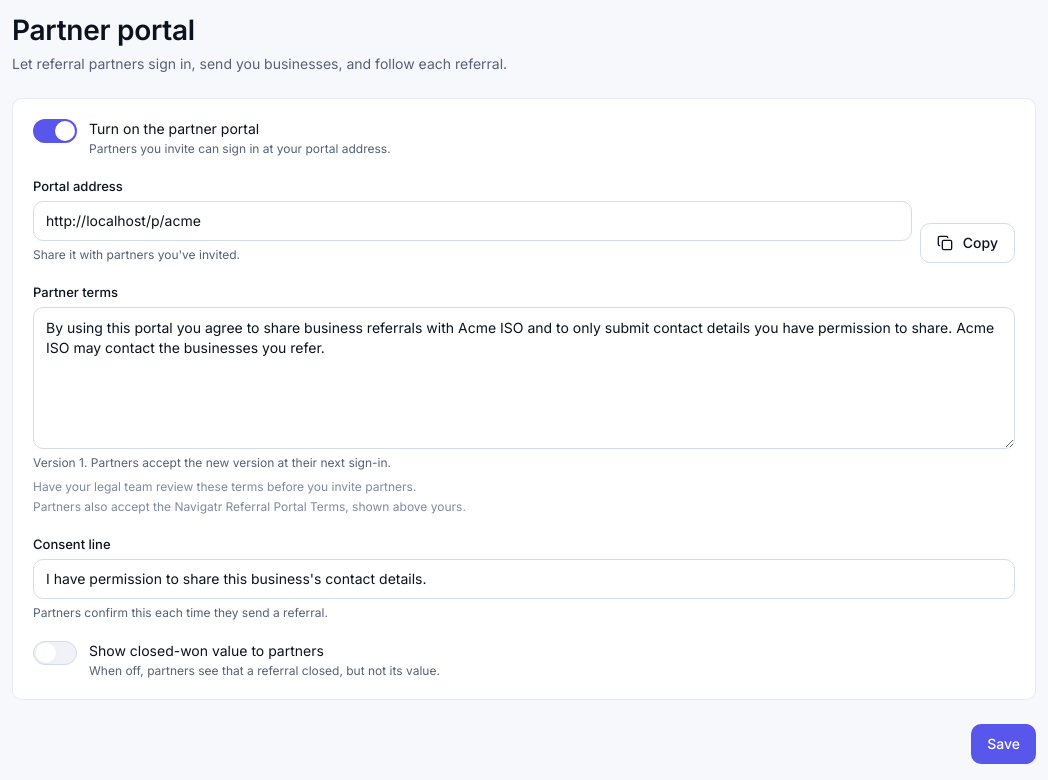
PartnerPortalTab › saves edited terms and the value toggle, and shows the new version
Replace the text in the text box labelled "Partner terms" with "New terms." at [524, 378], box x1=34 y1=308 x2=1014 y2=448
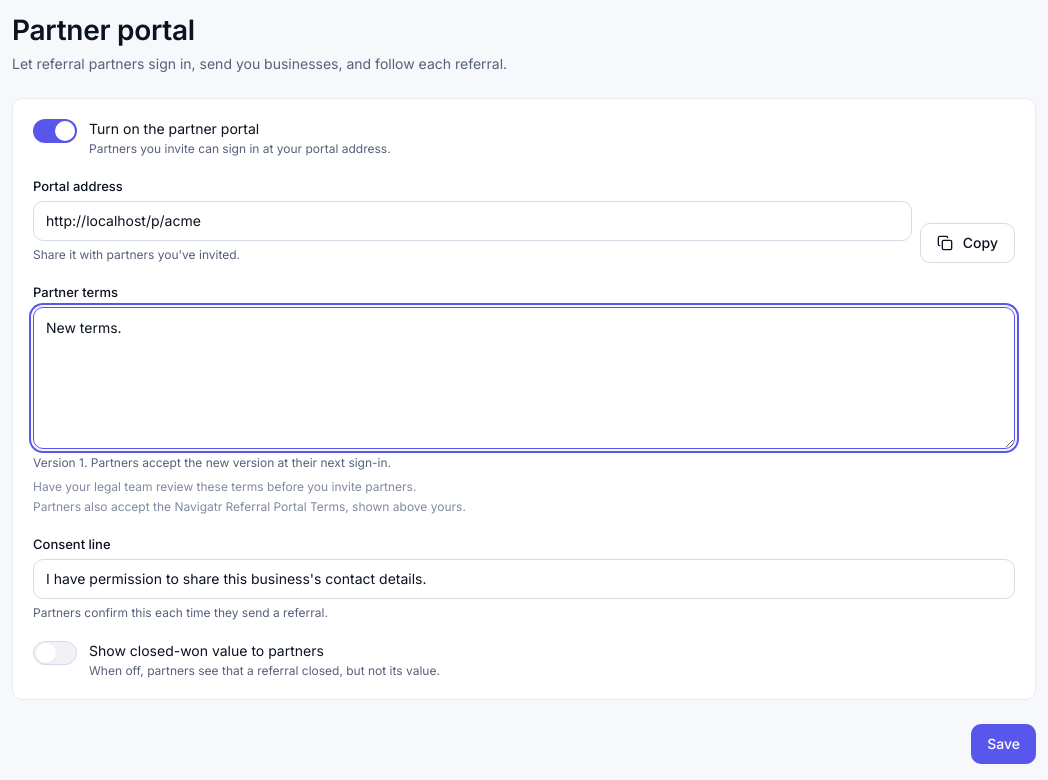
Click the switch named "Show closed-won value to partners" next to "Show closed-won value to partners" at [55, 653], box x1=33 y1=641 x2=77 y2=665
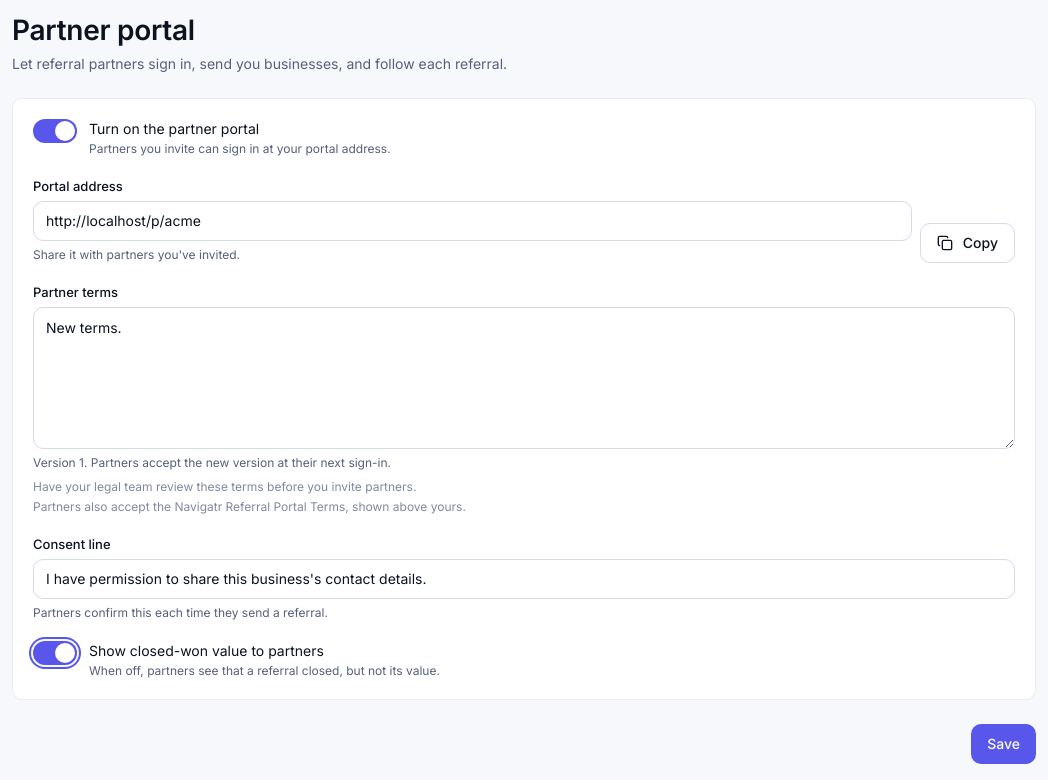
Click the button "Save" at [1004, 744], box x1=971 y1=724 x2=1036 y2=764
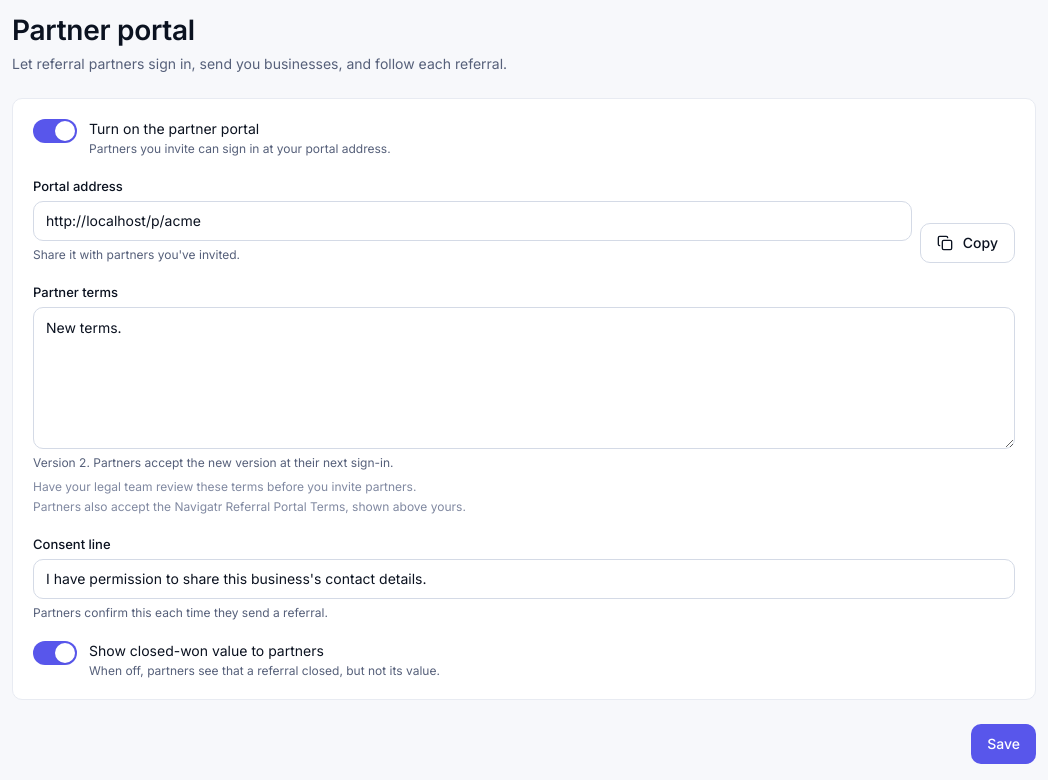
Expected: the text "Version 2." is shown, x1=33 y1=455 x2=394 y2=470
